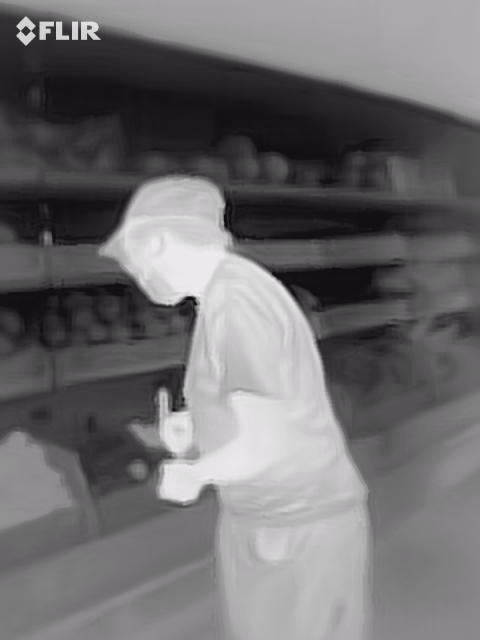head: (111, 171, 198, 306)
